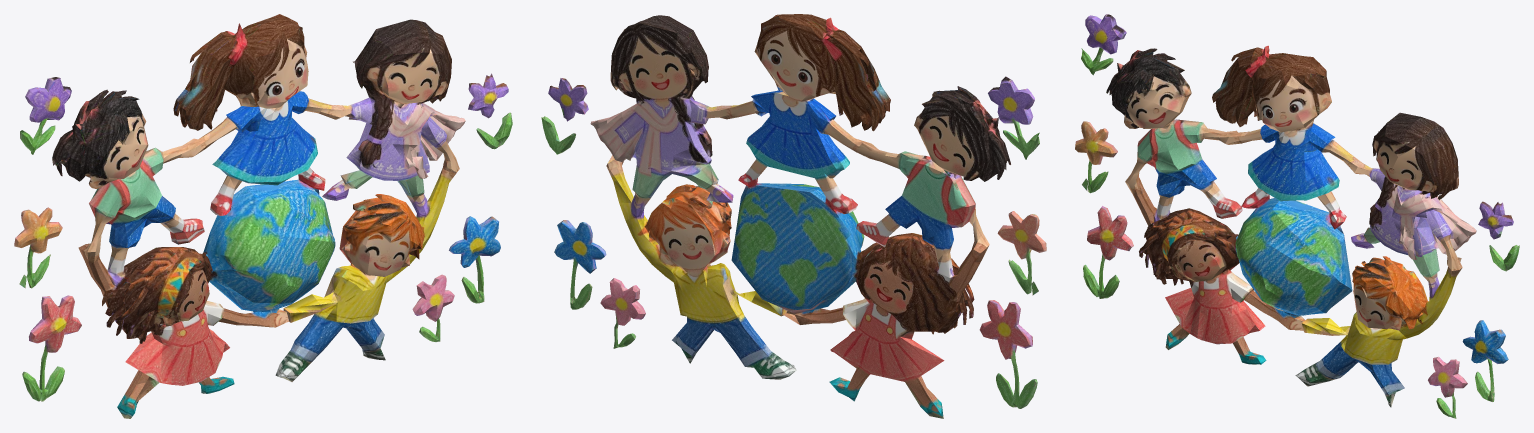
The model's file is elif-resim.glb.
The picture shows the model from 3 angles, left to right: view 1: azimuth 30°, elevation 25°; view 2: azimuth 150°, elevation 25°; view 3: azimuth 330°, elevation 25°; orthographic projection. The views are drawn at different scales.
Parts seen in each view (by area): view 1: Mesh0; view 2: Mesh0; view 3: Mesh0.
Boxes of the visible parts, box(x1,y1,x2,y2) form: Mesh0: box(14, 14, 512, 418); Mesh0: box(541, 14, 1046, 418); Mesh0: box(1075, 14, 1519, 418).
Bounding box in the file's own units: 1.9 × 1.35 × 0.2185.
1 material, 1 textured.
